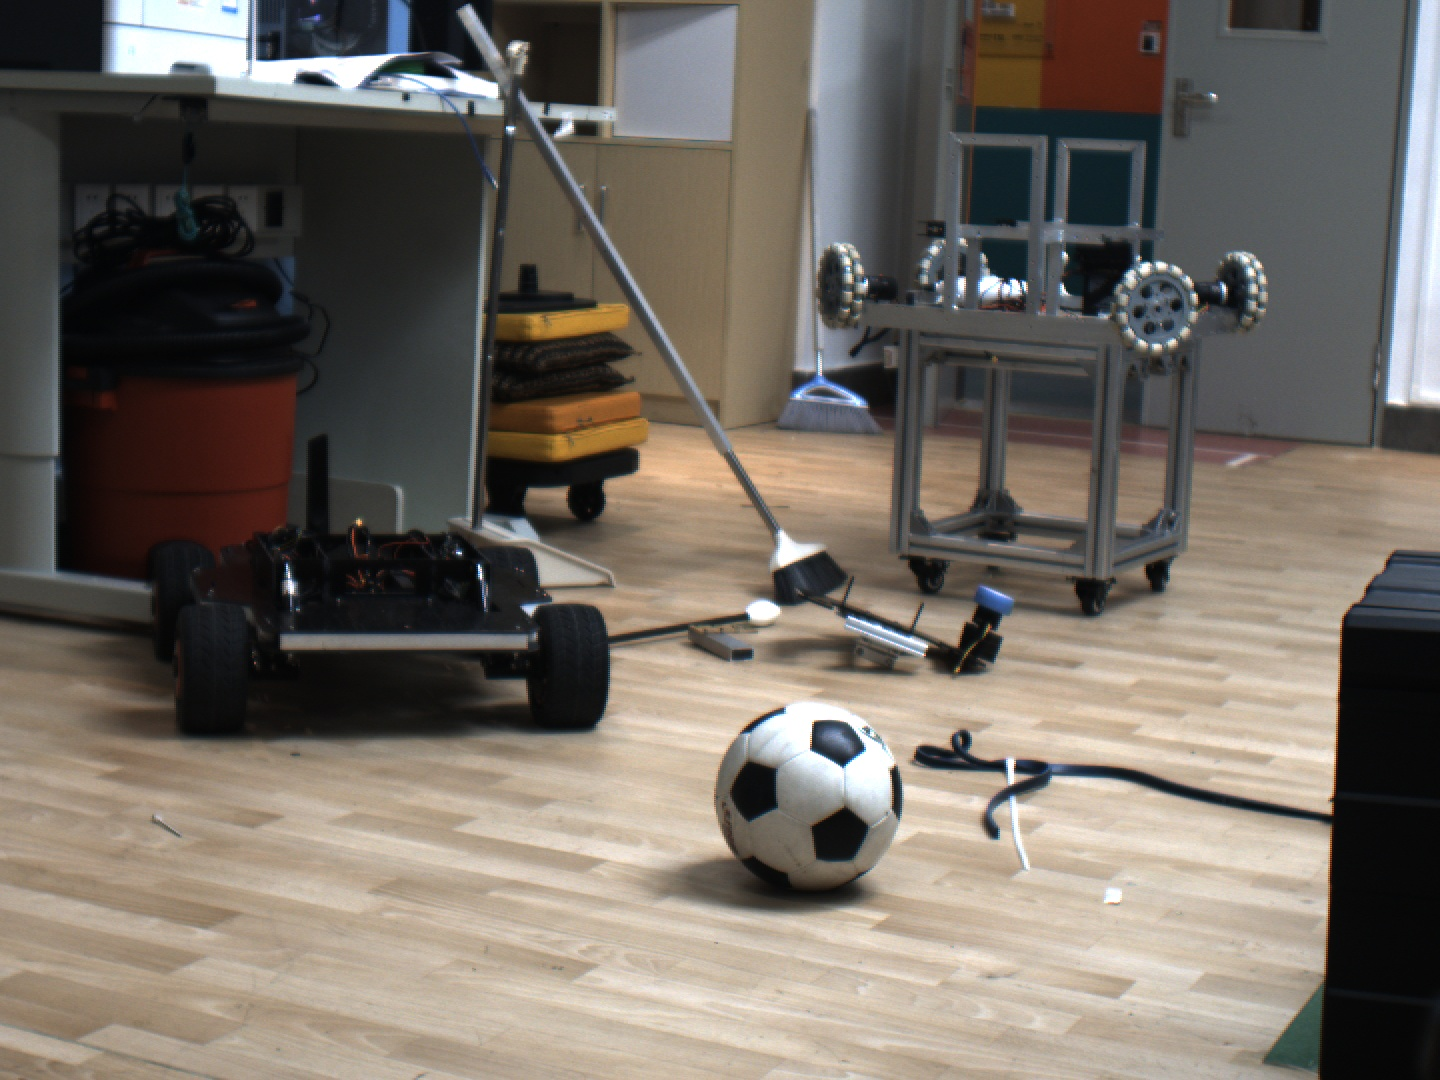ball: (687, 701, 927, 909)
